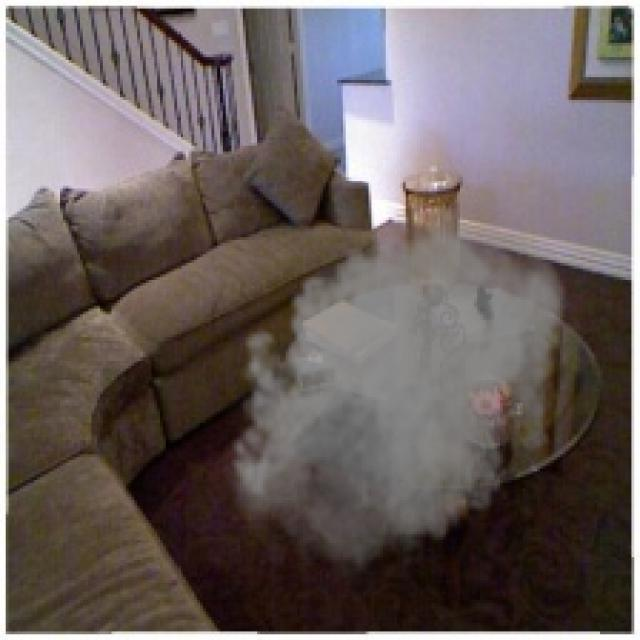Smoke: (219, 203, 572, 592)
